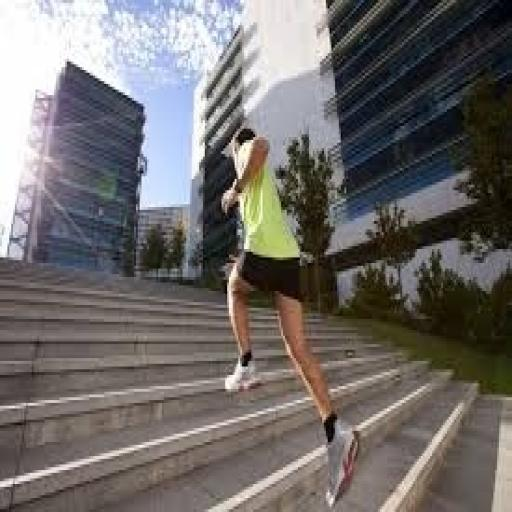running: (218, 120, 363, 510)
